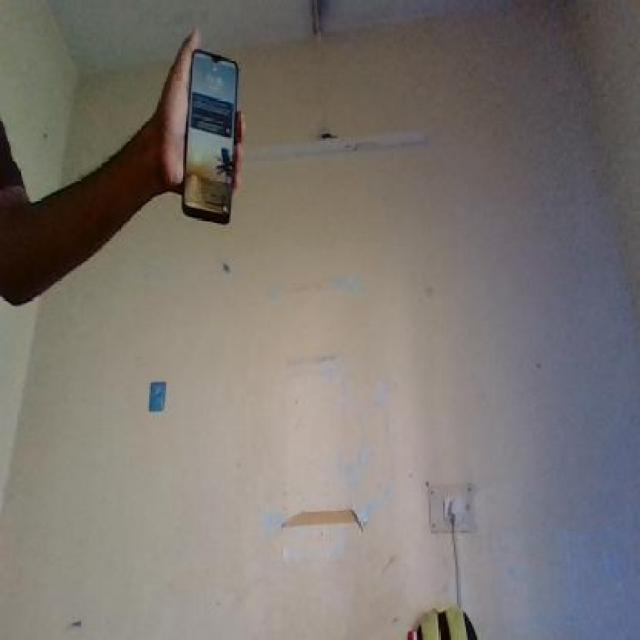Phone: (178, 49, 246, 224)
